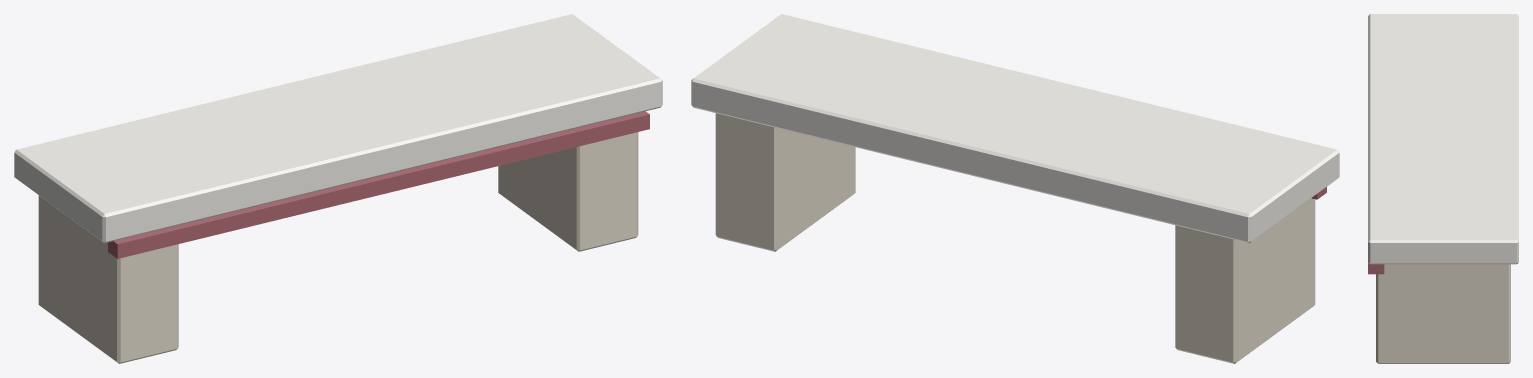
Rendered from roman-bathhouse-and-palaestra-stone-bench-run-565d045c__37891.glb.
3 renders of one model, left to right at view 1: azimuth 30°, elevation 25°; view 2: azimuth 150°, elevation 25°; view 3: azimuth 270°, elevation 25°, orthographic. The views are drawn at different scales.
Visible parts, largest first — view 1: stone-bench-run; view 2: stone-bench-run; view 3: stone-bench-run.
Boxes of the visible parts, x1,y1,x2,y2 form: stone-bench-run: (14,14,662,363); stone-bench-run: (691,14,1339,363); stone-bench-run: (1368,14,1518,363).
Size of the model in its own units: 2 by 0.5401 by 0.56.
